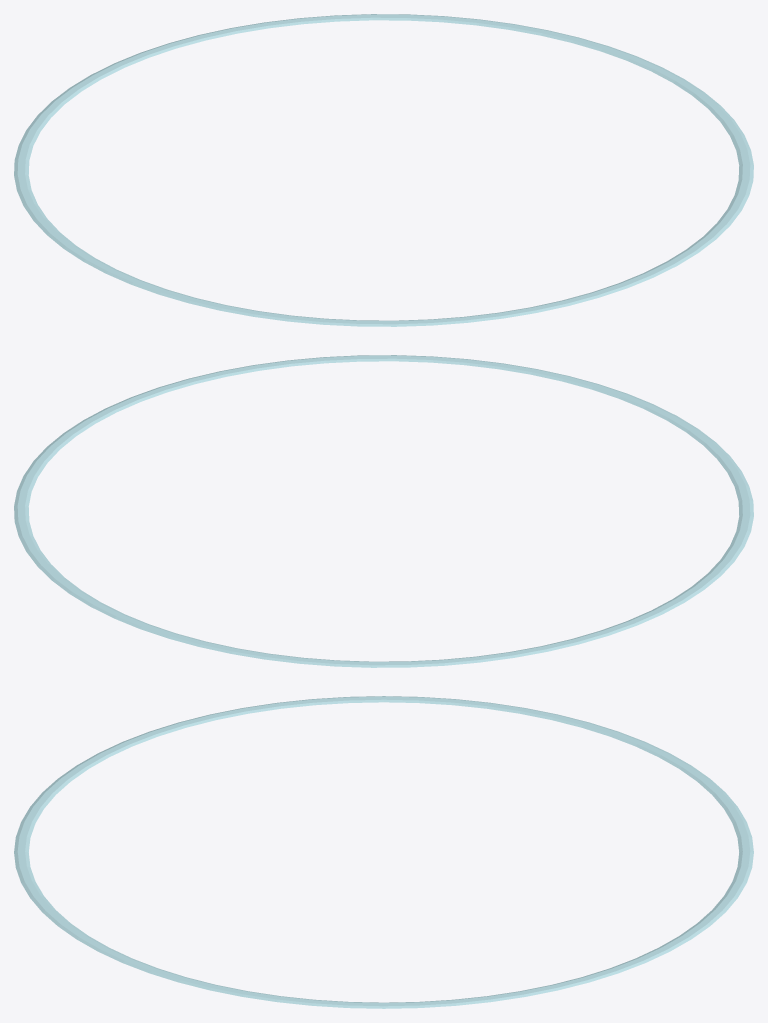
The model's file is placement_circle.glb.
3 renders of one model, top to bottom at view 1: azimuth 30°, elevation 25°; view 2: azimuth 150°, elevation 25°; view 3: azimuth 270°, elevation 25°, orthographic.
Parts seen in each view (by area): view 1: Placement circle 2.5m diameter; view 2: Placement circle 2.5m diameter; view 3: Placement circle 2.5m diameter.
Boxes of the visible parts, left/top/right/bottom form: Placement circle 2.5m diameter: left=14, top=14, right=753, bottom=326; Placement circle 2.5m diameter: left=14, top=355, right=753, bottom=667; Placement circle 2.5m diameter: left=14, top=696, right=753, bottom=1008.
Size of the model in its own units: 2.5 by 0.00779 by 2.5.
